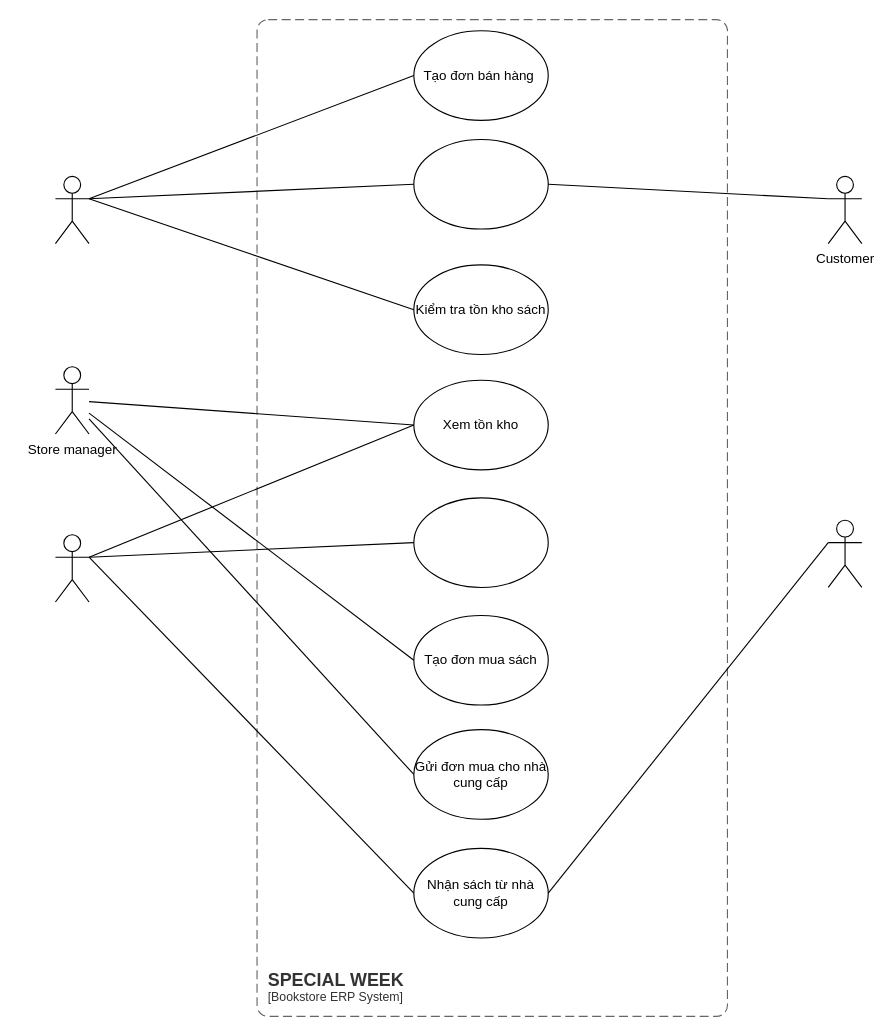
The diagram is 894 pixels wide and 1036 high, and some of its shapes have lost their labels. Here are the shapes that lost their labels. From the top down, the centre of each, then its label:
At point 480,183: "Xử lý thanh toán".
At point 71,209: "Sales Staff".
At point 480,542: "Cập nhật tồn kho".
At point 844,553: "Supplier".
At point 71,568: "Warehouuse Staff".
